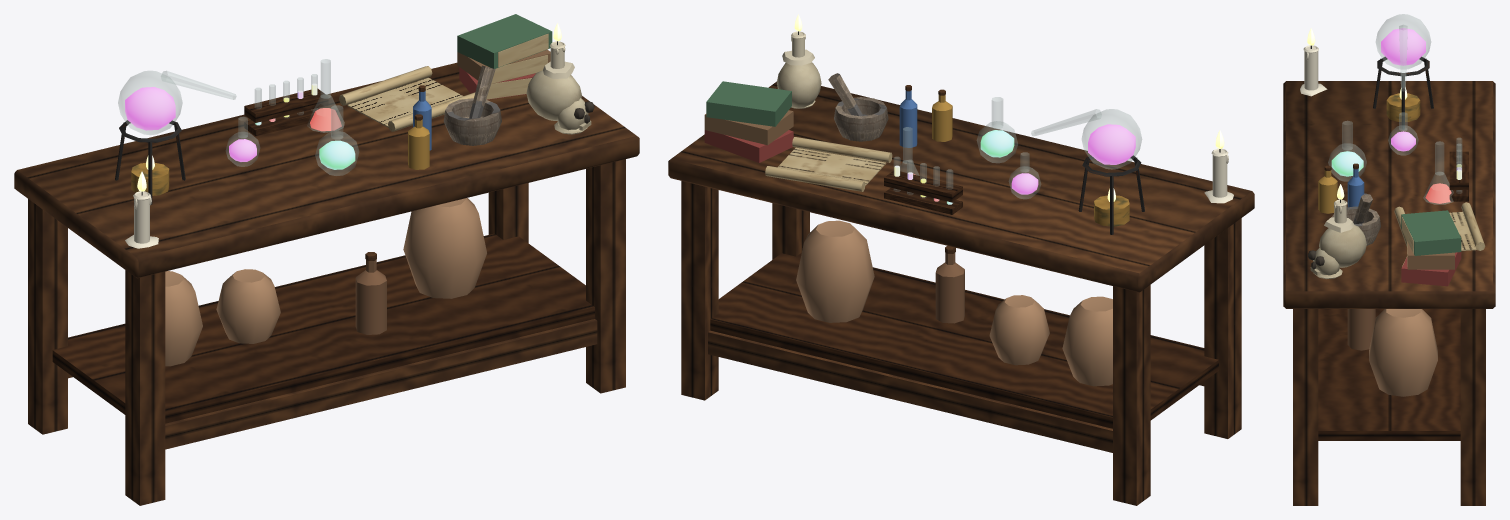
File: alchemy_bench.glb
3 views of the same model, side by side, from view 1: azimuth 30°, elevation 25°; view 2: azimuth 150°, elevation 25°; view 3: azimuth 270°, elevation 25° (orthographic). The views are drawn at different scales.
Visible parts, largest first — view 1: alchemy_bench; view 2: alchemy_bench; view 3: alchemy_bench.
Part boxes in pixels (x1=…): alchemy_bench: x1=14, y1=14, x2=639, y2=505; alchemy_bench: x1=668, y1=14, x2=1254, y2=505; alchemy_bench: x1=1283, y1=14, x2=1495, y2=505.
Bounding box in the file's own units: 1.8 × 1.25 × 0.76.
30 materials, 8 textured.
